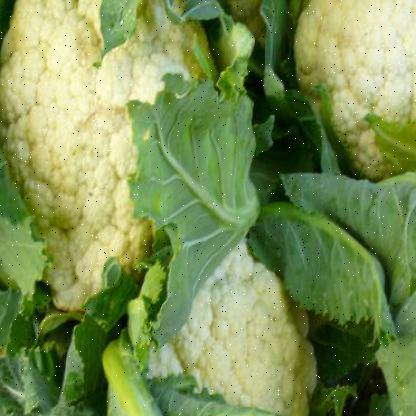cauliflower: (0, 1, 207, 291), (155, 222, 325, 415), (273, 1, 415, 188)
